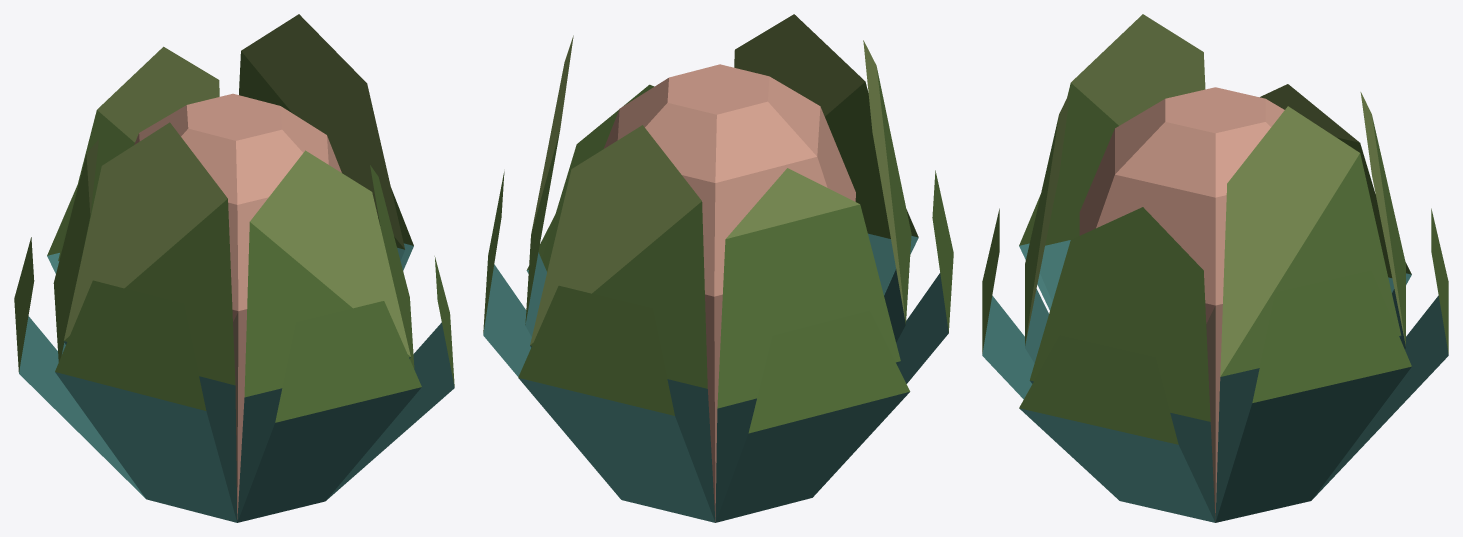
Rendered from cauliflower.glb.
3 views of the same model, side by side, from view 1: azimuth 30°, elevation 25°; view 2: azimuth 150°, elevation 25°; view 3: azimuth 270°, elevation 25° (orthographic). The views are drawn at different scales.
Bounding box in the file's own units: 1 × 1 × 1.
